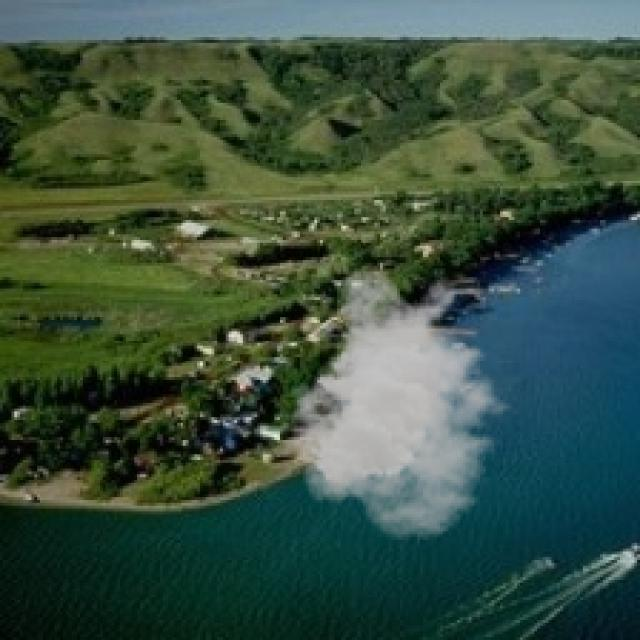smoke: (283, 266, 523, 540)
